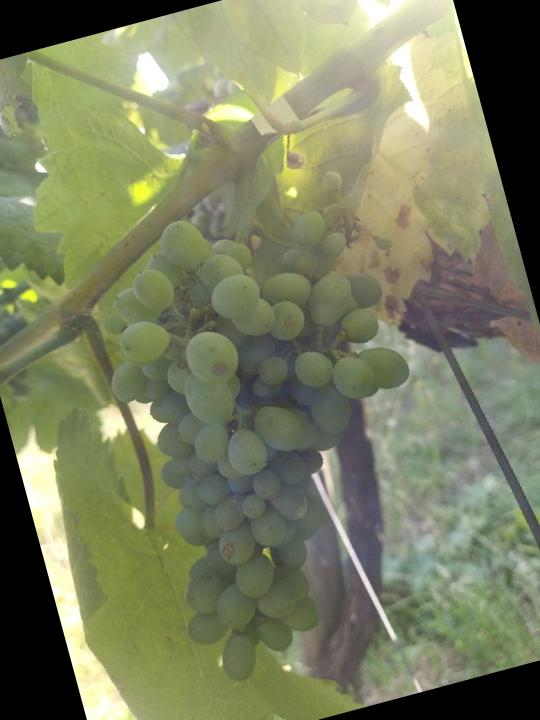grape: (64, 155, 486, 704)
